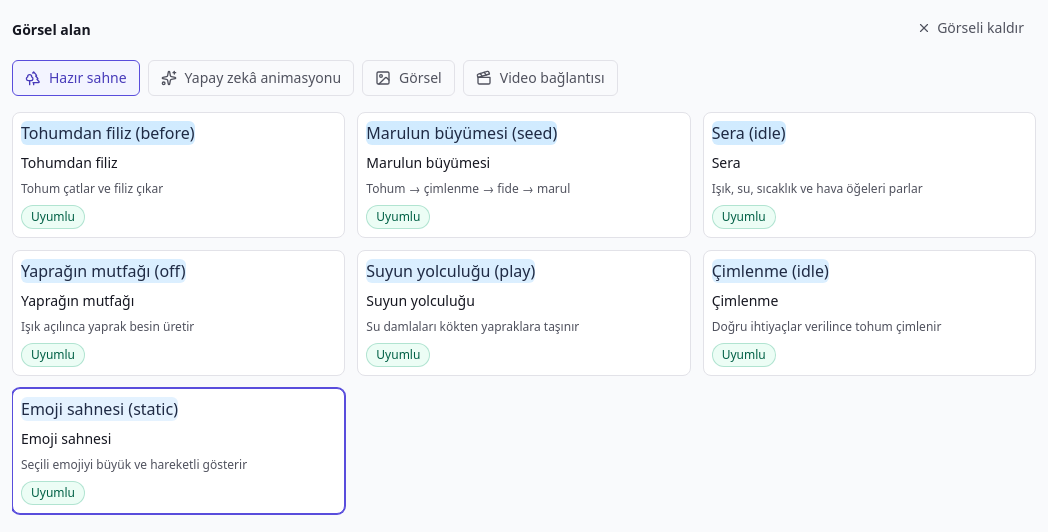
Test case: VisualEditor › removes an optional visual but never a required one
Click the button "Görseli kaldır": (971, 28) [905,12,1036,44]
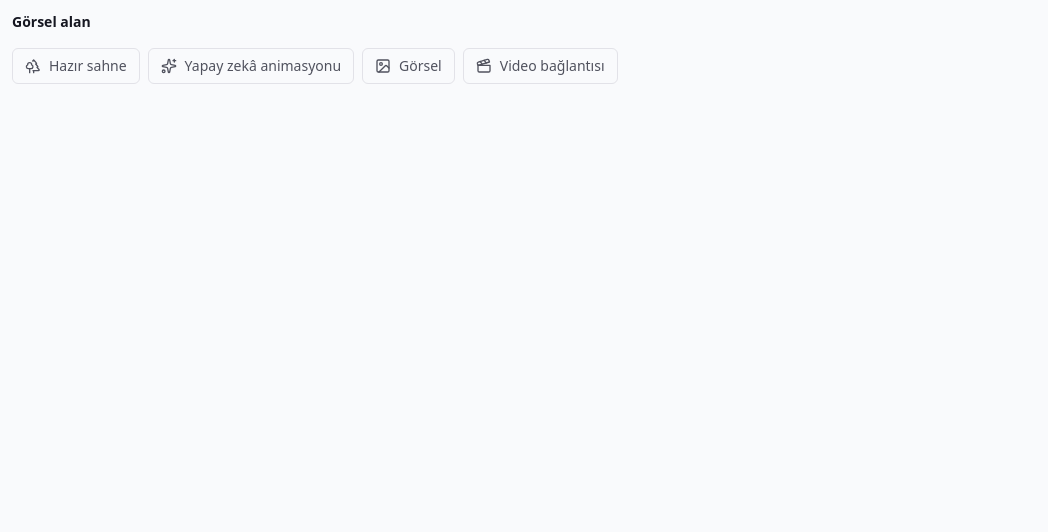
Now the button "Görseli kaldır" is gone
